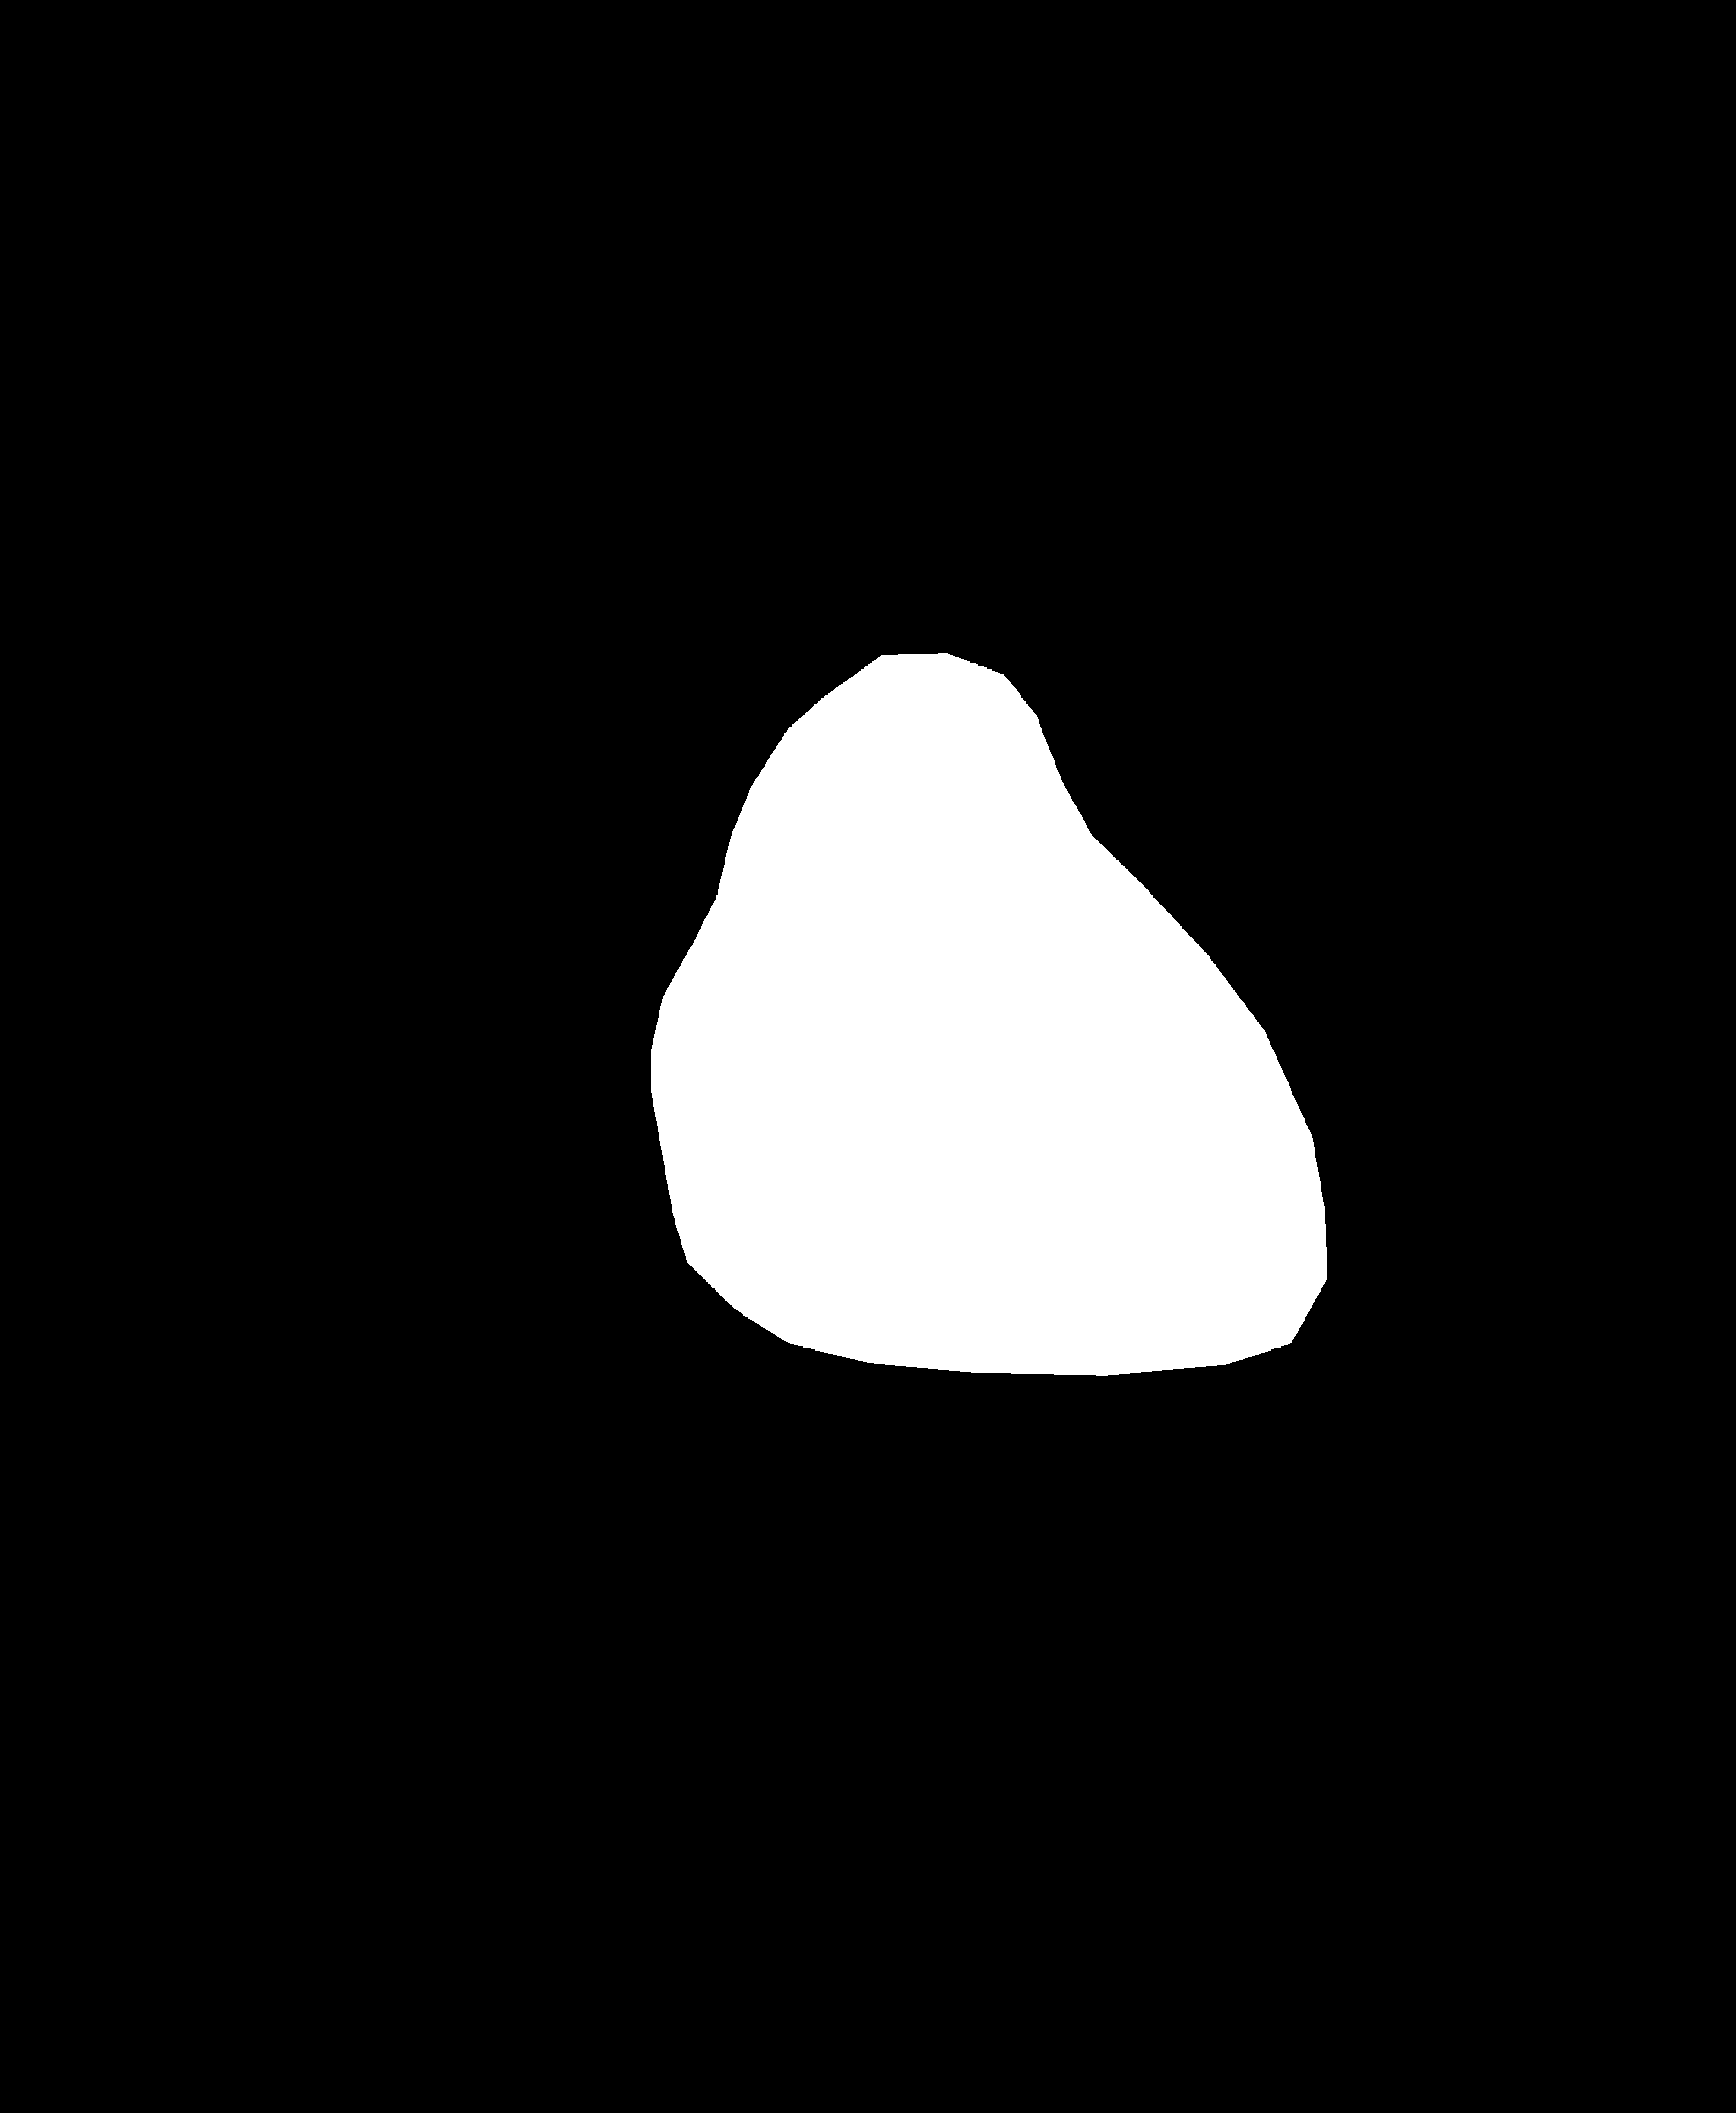heart: (653, 811, 1325, 1395)
left_lung: (58, 193, 788, 1569)
right_lung: (916, 177, 1675, 1674)
